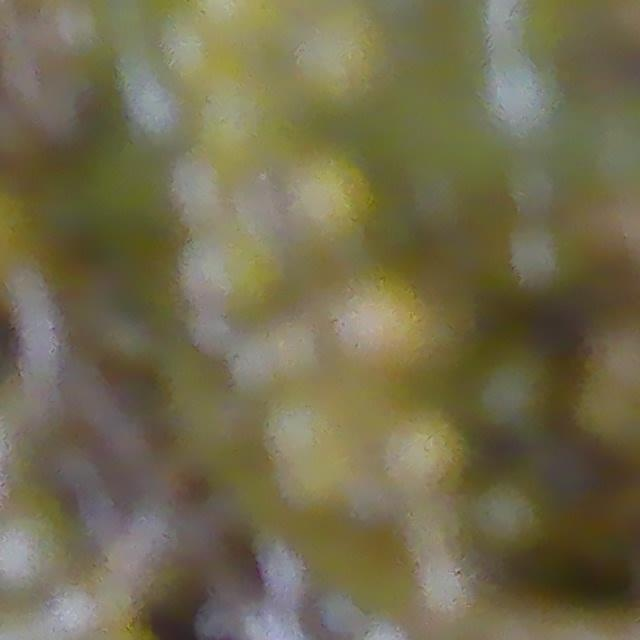SeaGrape: (469, 340, 560, 440), (379, 409, 471, 502), (502, 217, 590, 306), (467, 475, 555, 559), (481, 55, 563, 144)
